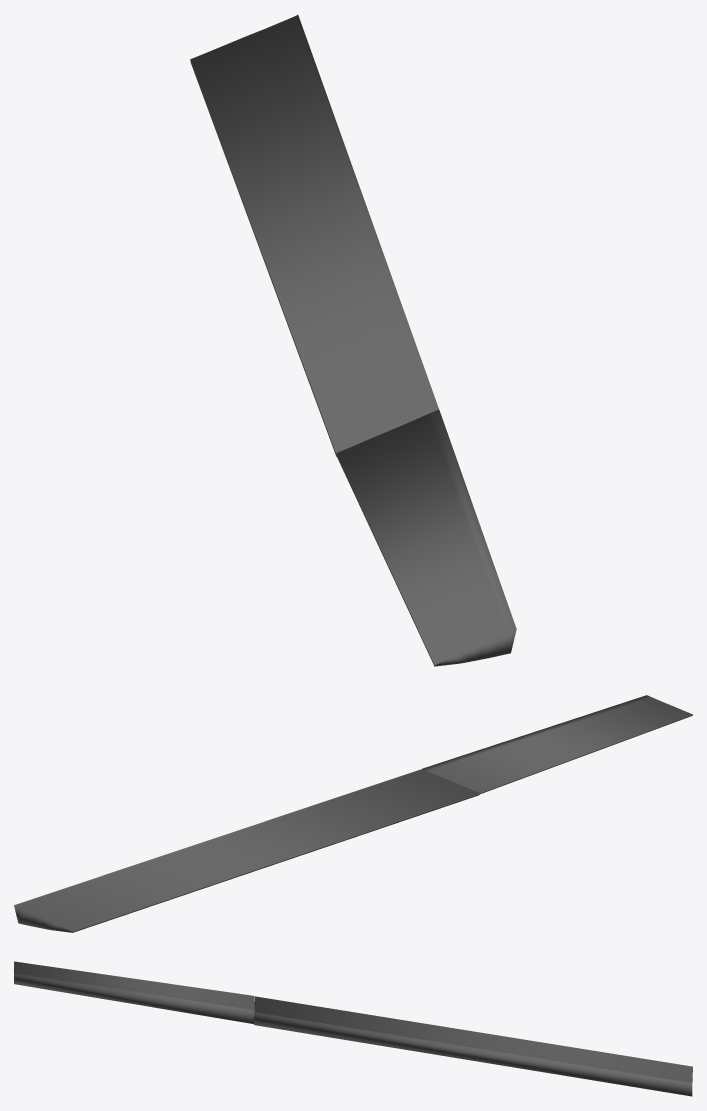
Rendered from skycat_elevon_right.dae.
3 renders of one model, top to bottom at view 1: azimuth 30°, elevation 25°; view 2: azimuth 150°, elevation 25°; view 3: azimuth 270°, elevation 25°, orthographic. The views are drawn at different scales.
Visible parts, largest first — view 1: Elevon_Inner_R, Elevon_Outer_R; view 2: Elevon_Inner_R, Elevon_Outer_R; view 3: Elevon_Inner_R, Elevon_Outer_R.
Boxes of the visible parts, left/top/right/bottom form: Elevon_Inner_R: left=190, top=15, right=438, bottom=456; Elevon_Outer_R: left=336, top=409, right=516, bottom=666; Elevon_Inner_R: left=14, top=769, right=479, bottom=932; Elevon_Outer_R: left=422, top=695, right=692, bottom=794; Elevon_Inner_R: left=254, top=996, right=692, bottom=1096; Elevon_Outer_R: left=14, top=961, right=254, bottom=1023.
Bounding box in the file's own units: 0.2867 × 0.6221 × 0.0164.
1 material, 1 textured.
